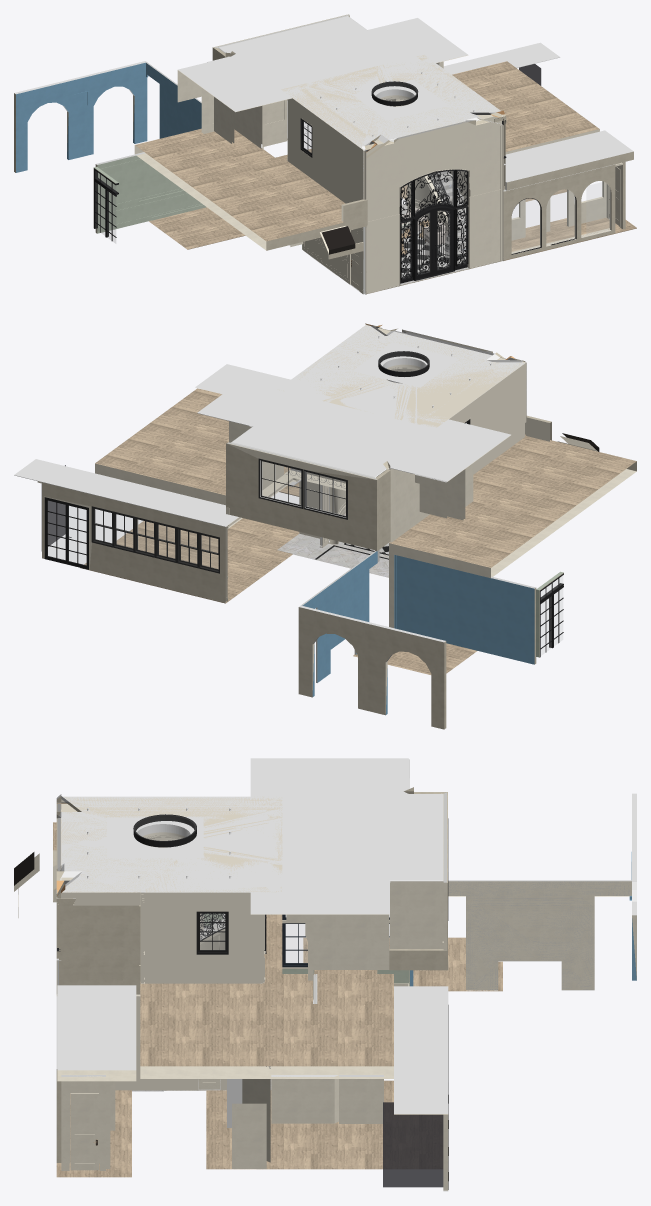
File: entry-e2a4f666340c.glb
The picture shows the model from 3 angles, top to bottom: view 1: azimuth 30°, elevation 25°; view 2: azimuth 150°, elevation 25°; view 3: azimuth 270°, elevation 25°; orthographic projection. The views are drawn at different scales.
Visible parts, largest first — view 1: entry-look-2575515a05775d9e, entry-look-9d91b47435c6fb33, entry-9d91b47435c6fb33, entry-4edf3a9420c06709, entry-look-969b861f9850351e, entry-e8793759323e04f0, entry-9ca48b730e5de4b2, entry-look-b19b106fc304963c, entry-746250f96522f643, entry-look-dbd60ee5c3733ed6, entry-look-c9e78b9ec1bb39cd, entry-785988ccf932ddd5 (+34 smaller); view 2: entry-look-2575515a05775d9e, entry-look-9d91b47435c6fb33, entry-look-b19b106fc304963c, entry-9d91b47435c6fb33, entry-look-969b861f9850351e, entry-look-245f595ae2832e16, entry-look-3b0077416469e01b, entry-look-bfb9fa537cd11d1d, entry-e8793759323e04f0, entry-look-9a0e9ee9b2a451d7, entry-746250f96522f643, entry-look-3e6709f91b43c3bf (+19 smaller); view 3: entry-look-2575515a05775d9e, entry-look-9d91b47435c6fb33, entry-9d91b47435c6fb33, entry-look-3e6709f91b43c3bf, entry-look-3b0077416469e01b, entry-c51ecd664a3b22a3, entry-look-dbd60ee5c3733ed6, entry-e8793759323e04f0, entry-look-9a0e9ee9b2a451d7, entry-62353aa10fc57f23, entry-look-cbd4bf73d9724a66, entry-look-55ff1dfd7b659ec1 (+22 smaller).
Part boxes in pixels (x1,y1,x2,y2): entry-look-2575515a05775d9e: (134, 61, 599, 250); entry-look-9d91b47435c6fb33: (178, 16, 468, 112); entry-9d91b47435c6fb33: (282, 54, 500, 149); entry-4edf3a9420c06709: (365, 120, 503, 221); entry-look-969b861f9850351e: (14, 61, 147, 172); entry-e8793759323e04f0: (281, 55, 499, 149); entry-9ca48b730e5de4b2: (365, 189, 503, 293); entry-look-b19b106fc304963c: (95, 152, 202, 233); entry-746250f96522f643: (287, 98, 361, 203); entry-look-dbd60ee5c3733ed6: (505, 130, 633, 190); entry-look-c9e78b9ec1bb39cd: (503, 164, 615, 260); entry-785988ccf932ddd5: (366, 118, 503, 220); entry-look-2575515a05775d9e: (95, 388, 636, 578); entry-look-9d91b47435c6fb33: (197, 371, 510, 481); entry-look-b19b106fc304963c: (397, 555, 536, 664); entry-9d91b47435c6fb33: (277, 325, 525, 428); entry-look-969b861f9850351e: (298, 605, 446, 729); entry-look-245f595ae2832e16: (226, 442, 377, 551); entry-look-3b0077416469e01b: (80, 518, 476, 674); entry-look-bfb9fa537cd11d1d: (42, 482, 227, 602); entry-e8793759323e04f0: (279, 325, 525, 427); entry-look-9a0e9ee9b2a451d7: (14, 459, 238, 526); entry-746250f96522f643: (449, 364, 524, 474); entry-look-3e6709f91b43c3bf: (302, 551, 377, 682); entry-look-2575515a05775d9e: (53, 822, 393, 1078); entry-look-9d91b47435c6fb33: (250, 758, 442, 914); entry-9d91b47435c6fb33: (61, 796, 282, 892); entry-look-3e6709f91b43c3bf: (448, 880, 631, 989); entry-look-3b0077416469e01b: (206, 937, 502, 1169); entry-c51ecd664a3b22a3: (145, 892, 264, 983); entry-look-dbd60ee5c3733ed6: (57, 985, 136, 1081); entry-e8793759323e04f0: (58, 794, 282, 892); entry-look-9a0e9ee9b2a451d7: (394, 986, 448, 1114); entry-62353aa10fc57f23: (71, 892, 140, 996); entry-look-cbd4bf73d9724a66: (383, 1102, 443, 1187); entry-look-55ff1dfd7b659ec1: (448, 880, 631, 990).
Bounding box in the file's own units: 21.07 × 7.02 × 18.
Materials: 65 (12 with a texture image).
